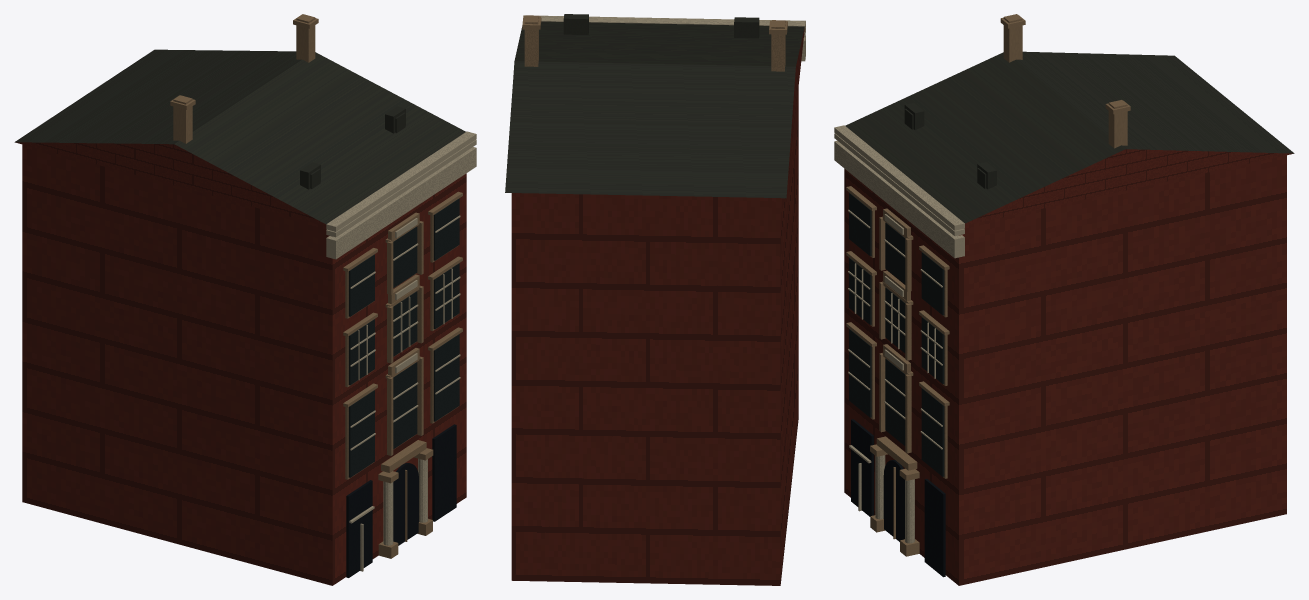
The picture shows the model from 3 angles, left to right: view 1: azimuth 30°, elevation 25°; view 2: azimuth 150°, elevation 25°; view 3: azimuth 270°, elevation 25°; orthographic projection. The views are drawn at different scales.
Parts seen in each view (by area): view 1: koopmanshuis-nieuwehaven89-1, koopmanshuis-nieuwehaven89-2, koopmanshuis-nieuwehaven89-5, koopmanshuis-nieuwehaven89-4, koopmanshuis-nieuwehaven89-0, koopmanshuis-nieuwehaven89-3; view 2: koopmanshuis-nieuwehaven89-1, koopmanshuis-nieuwehaven89-2, koopmanshuis-nieuwehaven89-4, koopmanshuis-nieuwehaven89-0; view 3: koopmanshuis-nieuwehaven89-1, koopmanshuis-nieuwehaven89-2, koopmanshuis-nieuwehaven89-5, koopmanshuis-nieuwehaven89-4, koopmanshuis-nieuwehaven89-0, koopmanshuis-nieuwehaven89-3.
Part boxes in pixels (<box>): koopmanshuis-nieuwehaven89-1: <box>15,142,466,585</box>; koopmanshuis-nieuwehaven89-2: <box>14,49,465,224</box>; koopmanshuis-nieuwehaven89-5: <box>348,198,459,477</box>; koopmanshuis-nieuwehaven89-4: <box>170,14,462,558</box>; koopmanshuis-nieuwehaven89-0: <box>326,131,476,571</box>; koopmanshuis-nieuwehaven89-3: <box>346,424,456,577</box>; koopmanshuis-nieuwehaven89-1: <box>511,28,804,585</box>; koopmanshuis-nieuwehaven89-2: <box>505,14,804,198</box>; koopmanshuis-nieuwehaven89-4: <box>522,15,787,71</box>; koopmanshuis-nieuwehaven89-0: <box>523,15,805,61</box>; koopmanshuis-nieuwehaven89-1: <box>844,149,1293,585</box>; koopmanshuis-nieuwehaven89-2: <box>845,51,1294,223</box>; koopmanshuis-nieuwehaven89-5: <box>849,193,944,476</box>; koopmanshuis-nieuwehaven89-4: <box>846,14,1130,556</box>; koopmanshuis-nieuwehaven89-0: <box>834,125,964,543</box>; koopmanshuis-nieuwehaven89-3: <box>851,419,945,577</box>.
Size of the model in its own units: 17.69 by 21.15 by 19.95.
6 materials, 6 textured.
